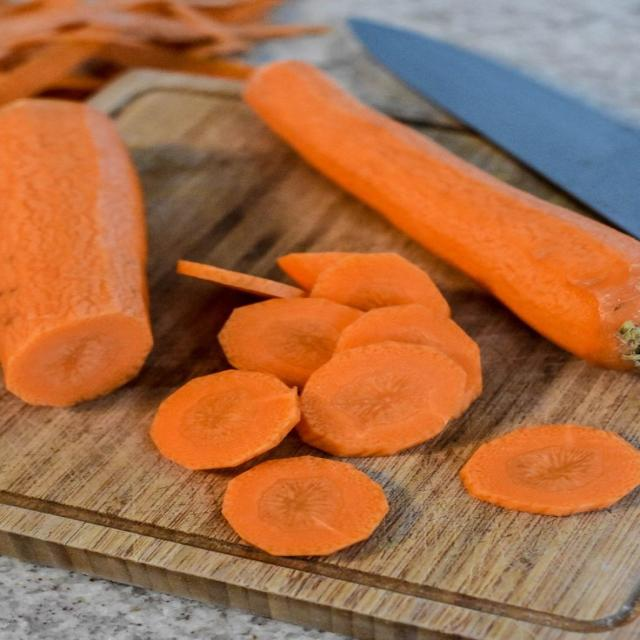carrot: (246, 61, 639, 371), (0, 100, 152, 405), (297, 342, 466, 456), (223, 456, 388, 555), (460, 425, 639, 515), (336, 304, 482, 411), (151, 370, 299, 469), (219, 298, 361, 386), (310, 253, 450, 316), (0, 43, 99, 104), (177, 260, 306, 298), (277, 252, 353, 290)
